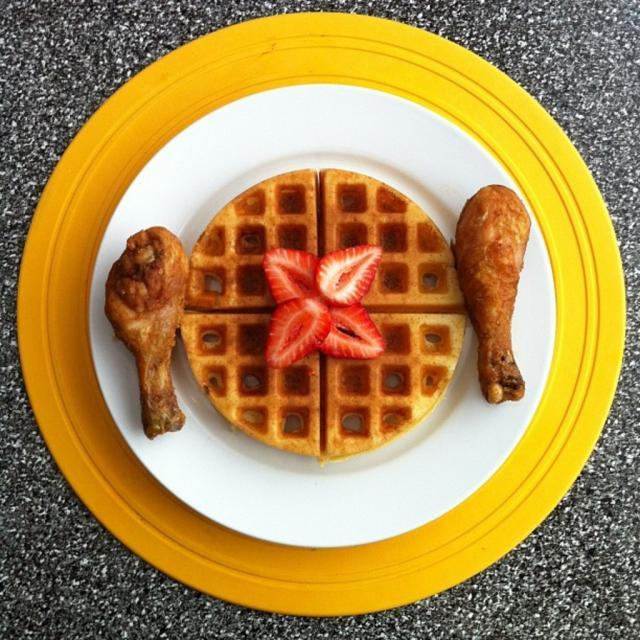Waffle: (180, 167, 466, 465)
